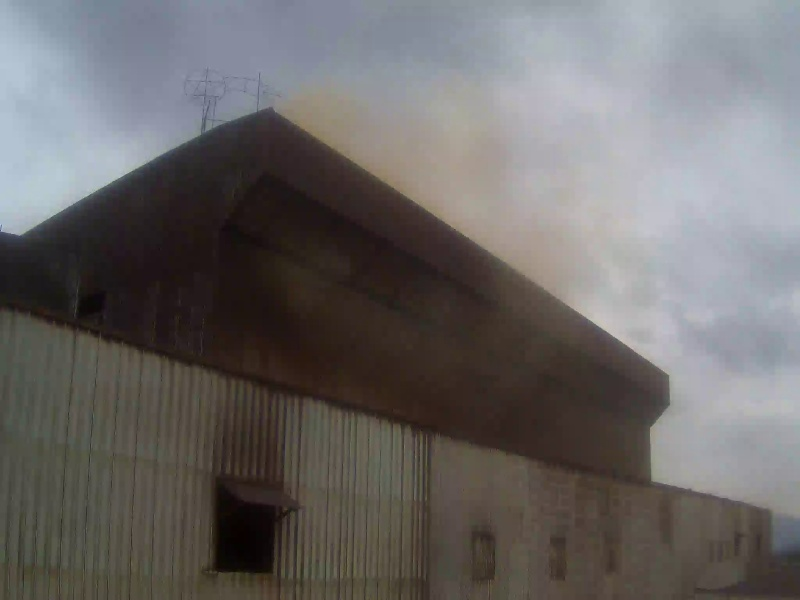bom: (8, 9, 269, 176)
ruim: (274, 72, 577, 401)
